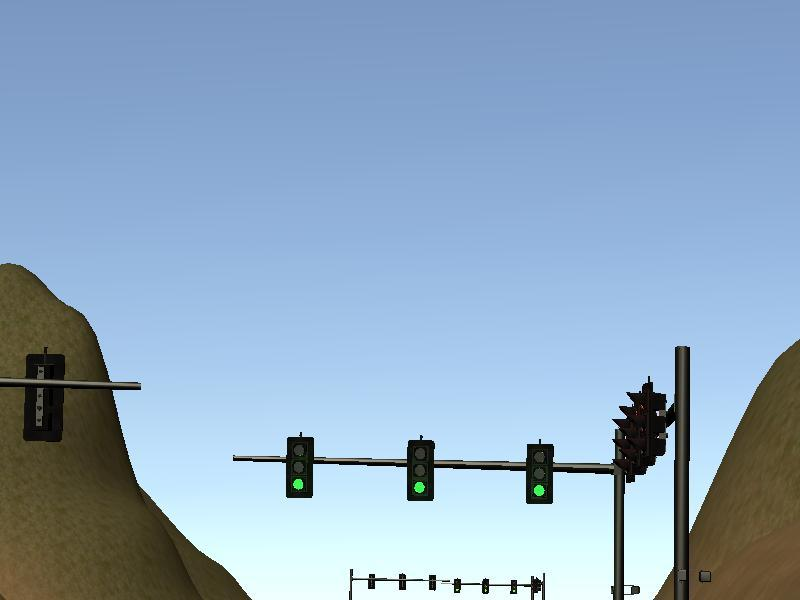Green: (405, 441, 434, 501), (286, 438, 314, 499), (526, 445, 552, 502)
